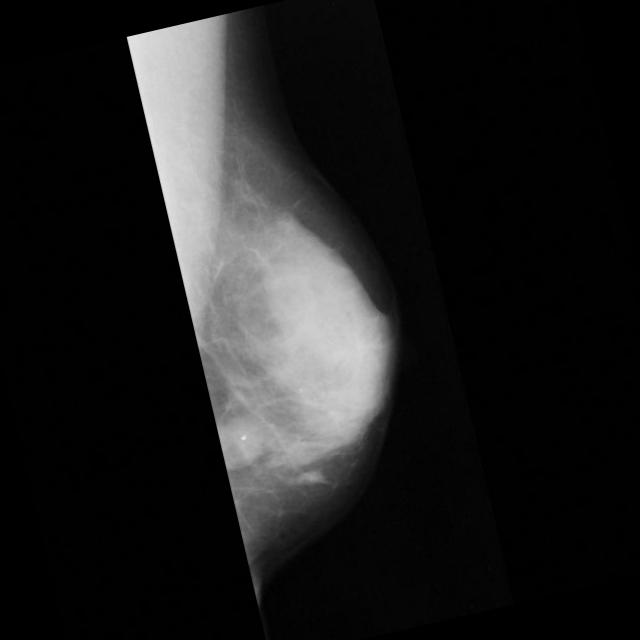CIRC: (202, 408, 270, 476)
